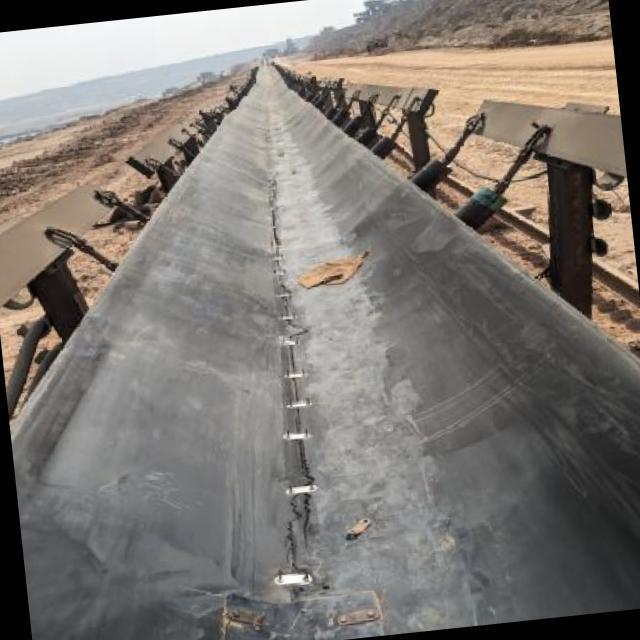Tear: (266, 177, 316, 545), (278, 518, 302, 581)
